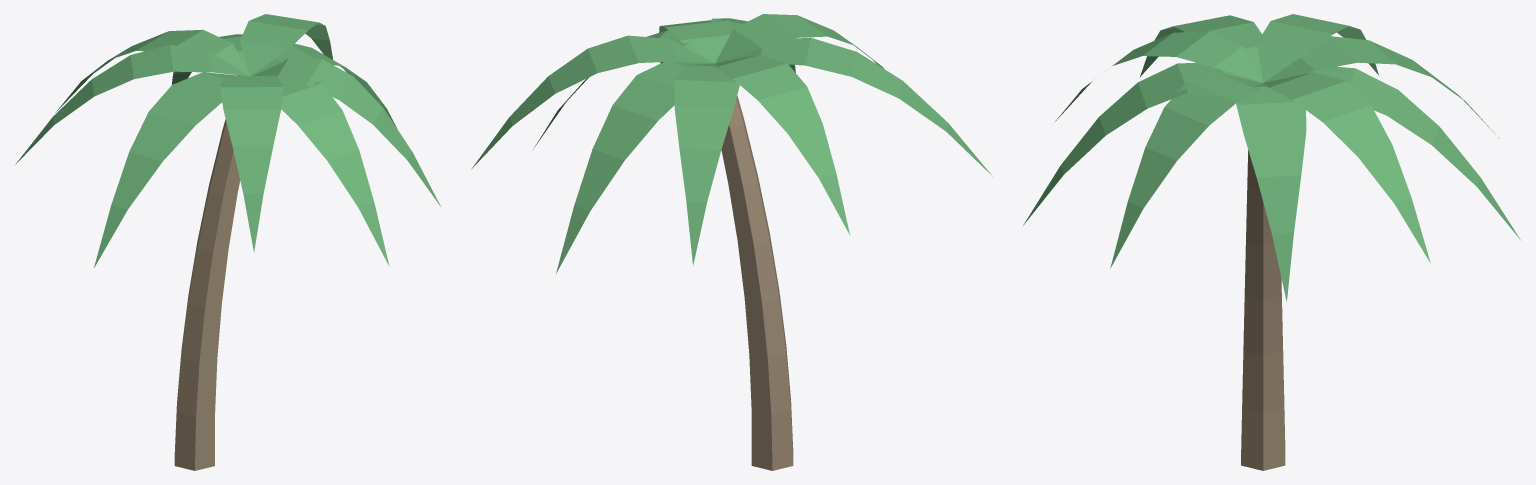
Rendered from palm.glb.
3 views of the same model, side by side, from view 1: azimuth 30°, elevation 25°; view 2: azimuth 150°, elevation 25°; view 3: azimuth 270°, elevation 25° (orthographic). The views are drawn at different scales.
Visible parts, largest first — view 1: Palm; view 2: Palm; view 3: Palm.
Part boxes in pixels (x1=…): Palm: x1=15, y1=14, x2=441, y2=470; Palm: x1=471, y1=14, x2=992, y2=470; Palm: x1=1023, y1=14, x2=1520, y2=470.
Size of the model in its own units: 3.76 by 3.69 by 3.9.
